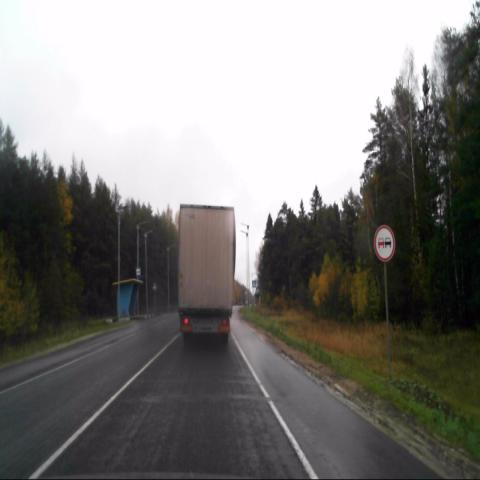3_20: (373, 223, 396, 265)
